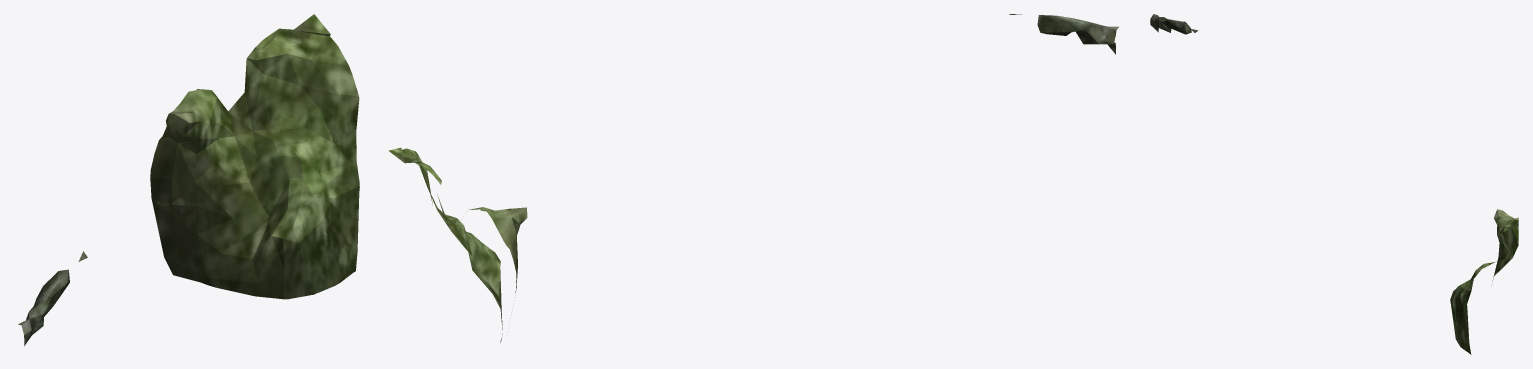
The picture shows the model from 3 angles, left to right: view 1: azimuth 30°, elevation 25°; view 2: azimuth 150°, elevation 25°; view 3: azimuth 270°, elevation 25°; orthographic projection. The views are drawn at different scales.
Size of the model in its own units: 2.95 by 1.47 by 2.7.
1 material, 1 textured.
